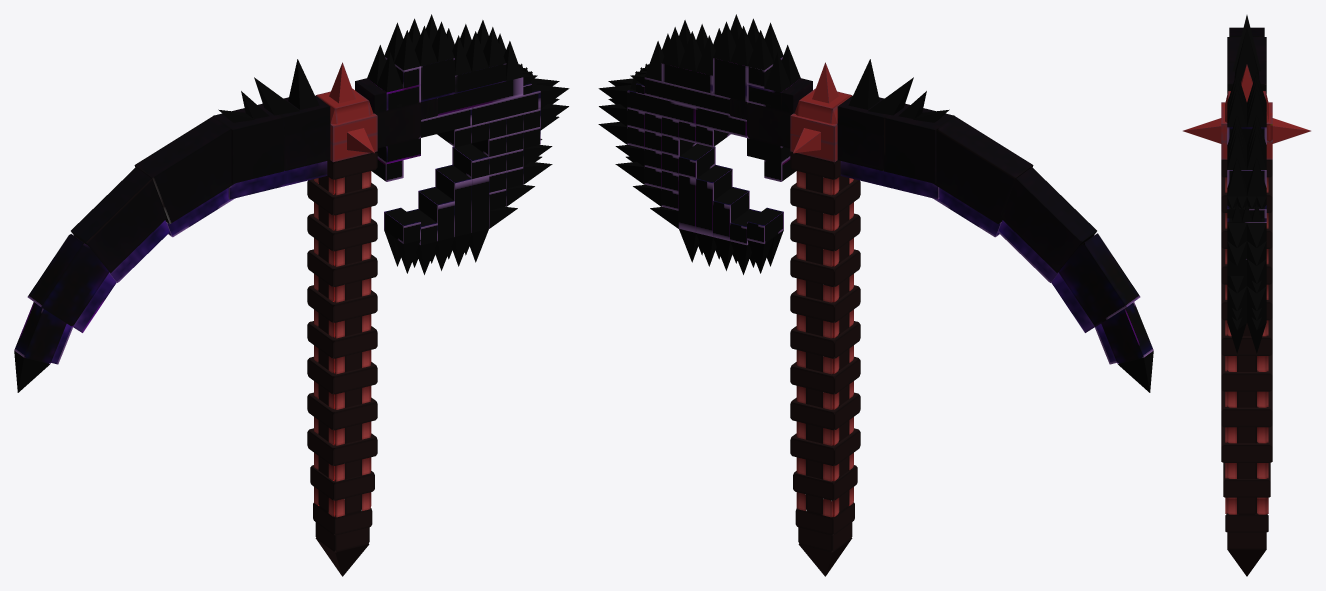
Rendered from scytheskeletbetter.obj.
3 views of the same model, side by side, from view 1: azimuth 30°, elevation 25°; view 2: azimuth 150°, elevation 25°; view 3: azimuth 270°, elevation 25° (orthographic).
Visible parts, largest first — view 1: cube, pyramid, beveled_cuboid; view 2: cube, pyramid, beveled_cuboid; view 3: cube, pyramid, beveled_cuboid.
Boxes of the visible parts, x1=… form: cube: x1=14, y1=57, x2=540, y2=551; pyramid: x1=14, y1=14, x2=569, y2=576; beveled_cuboid: x1=316, y1=88, x2=373, y2=123; cube: x1=627, y1=57, x2=1153, y2=551; pyramid: x1=598, y1=14, x2=1153, y2=576; beveled_cuboid: x1=794, y1=88, x2=851, y2=123; cube: x1=1221, y1=27, x2=1272, y2=549; pyramid: x1=1183, y1=15, x2=1310, y2=576; beveled_cuboid: x1=1225, y1=91, x2=1268, y2=141.
Bounding box in the file's own units: 2 × 1.87 × 0.4125.
